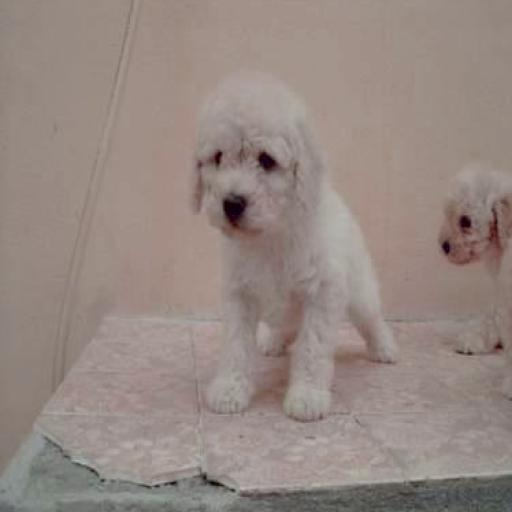dog_face: (188, 89, 310, 240), (439, 164, 512, 271)
